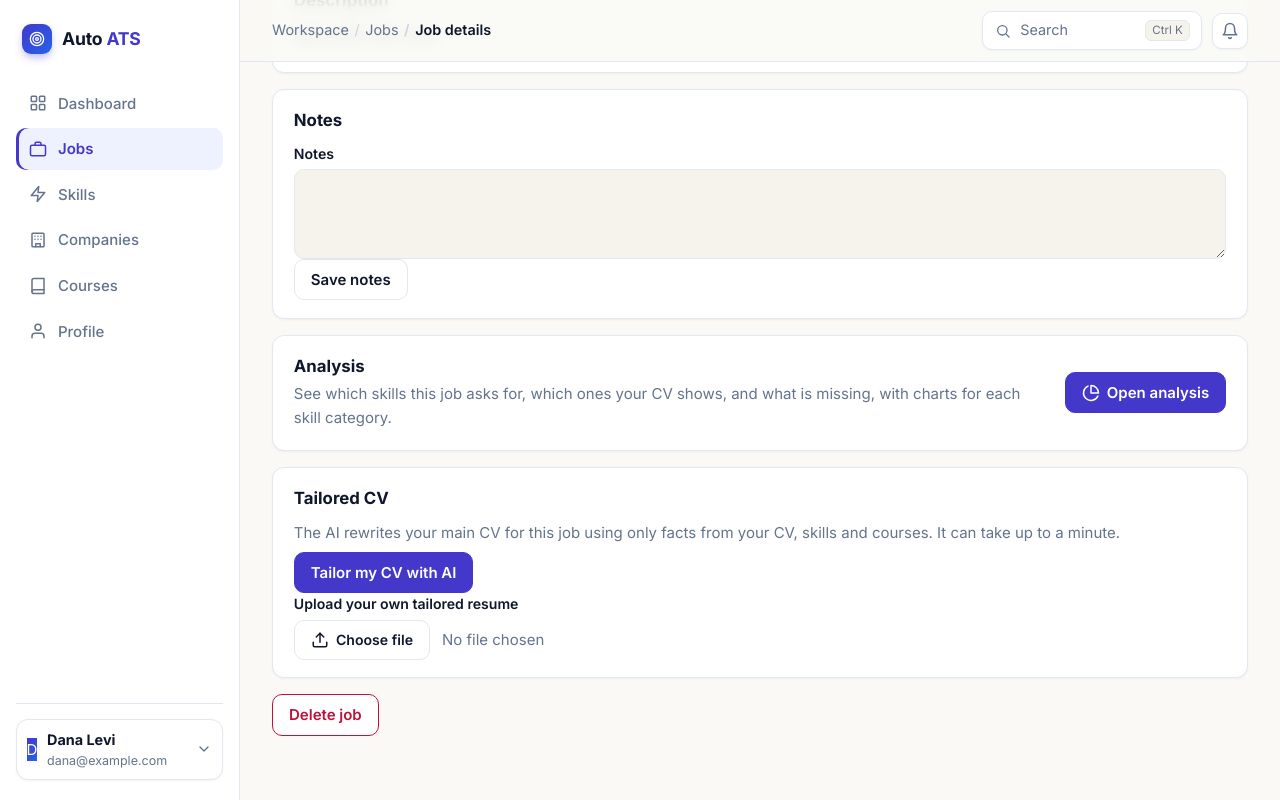
JobDetailPage delete › GivenJob_WhenConfirmingDelete_ThenJobIsDeletedAndJobsListOpens
(page scrolled)
Click the button "Delete job".
click(325, 715)  # box [272,694,379,736]
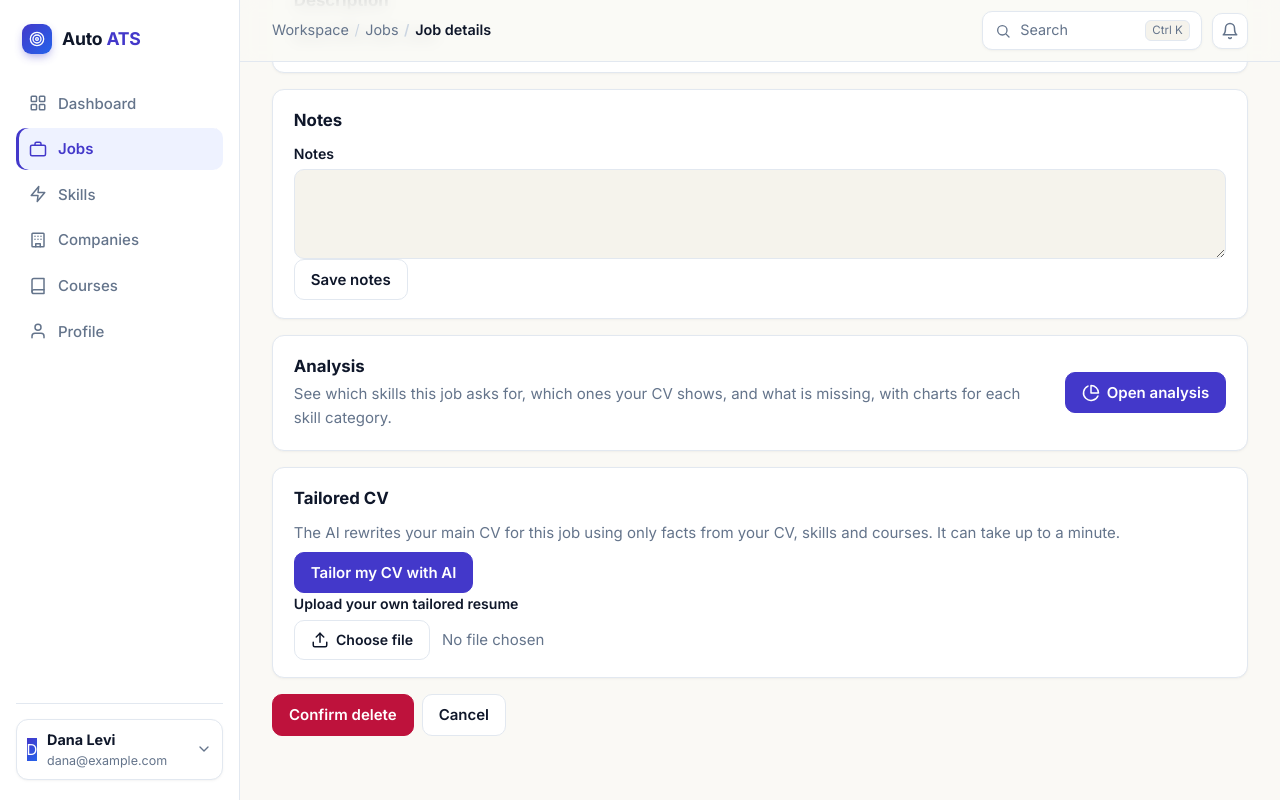
Click the button "Confirm delete".
click(343, 715)  # box [272,694,414,736]
(page scrolled)
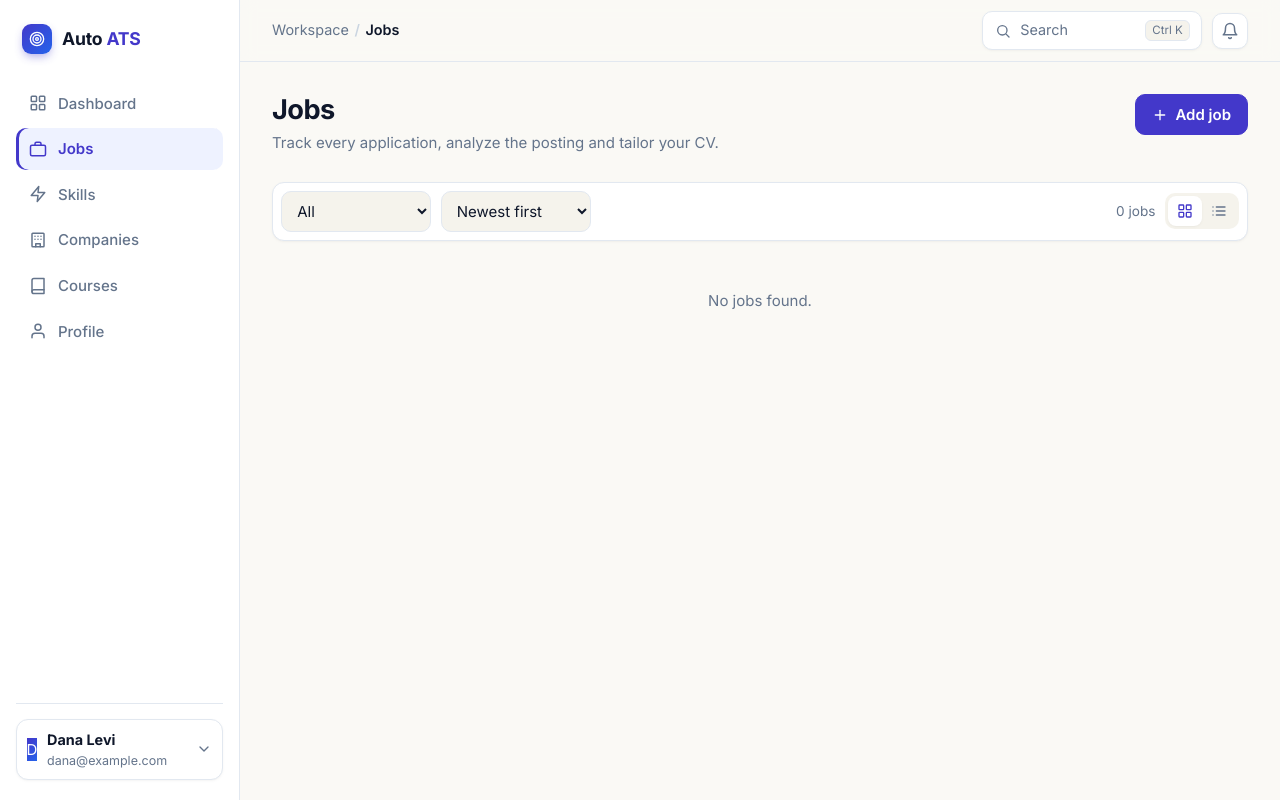
Now the heading "Jobs" is shown, box [272,93,335,126]
